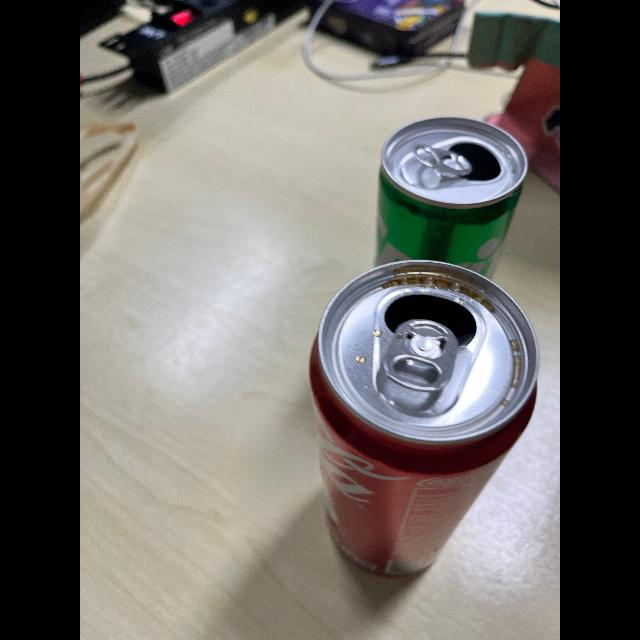can: (312, 248, 538, 586), (370, 106, 530, 292)
